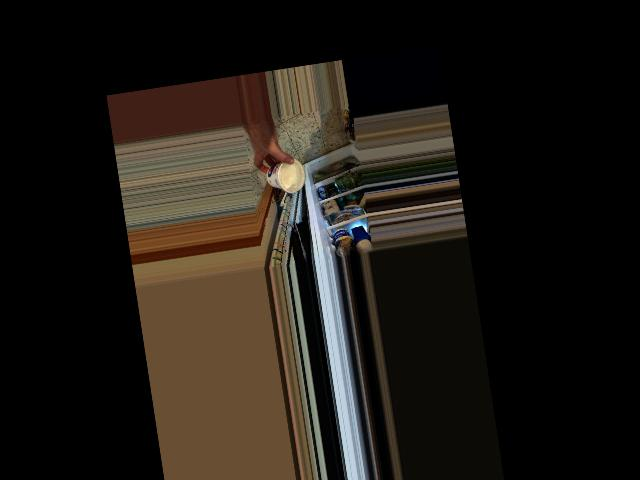cotage: (264, 156, 306, 196)
